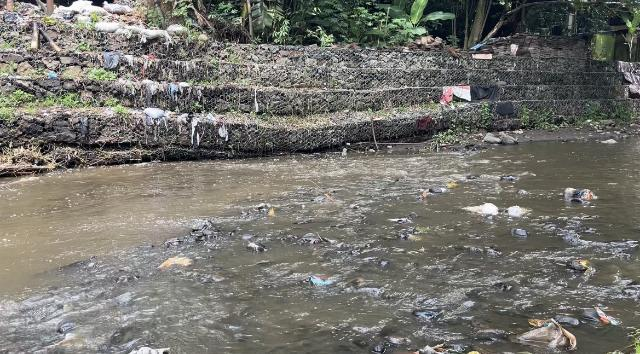Sampah Anorganik: (513, 316, 574, 354), (591, 306, 626, 327), (563, 187, 602, 201), (466, 202, 500, 216), (304, 275, 328, 288), (503, 206, 525, 217), (382, 218, 412, 225), (442, 182, 456, 188)
Sampah Organik: (397, 227, 431, 241), (163, 256, 196, 270), (570, 256, 595, 272), (268, 208, 276, 217), (322, 193, 331, 200), (421, 192, 429, 198)
